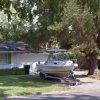Boat: (31, 55, 79, 83)
